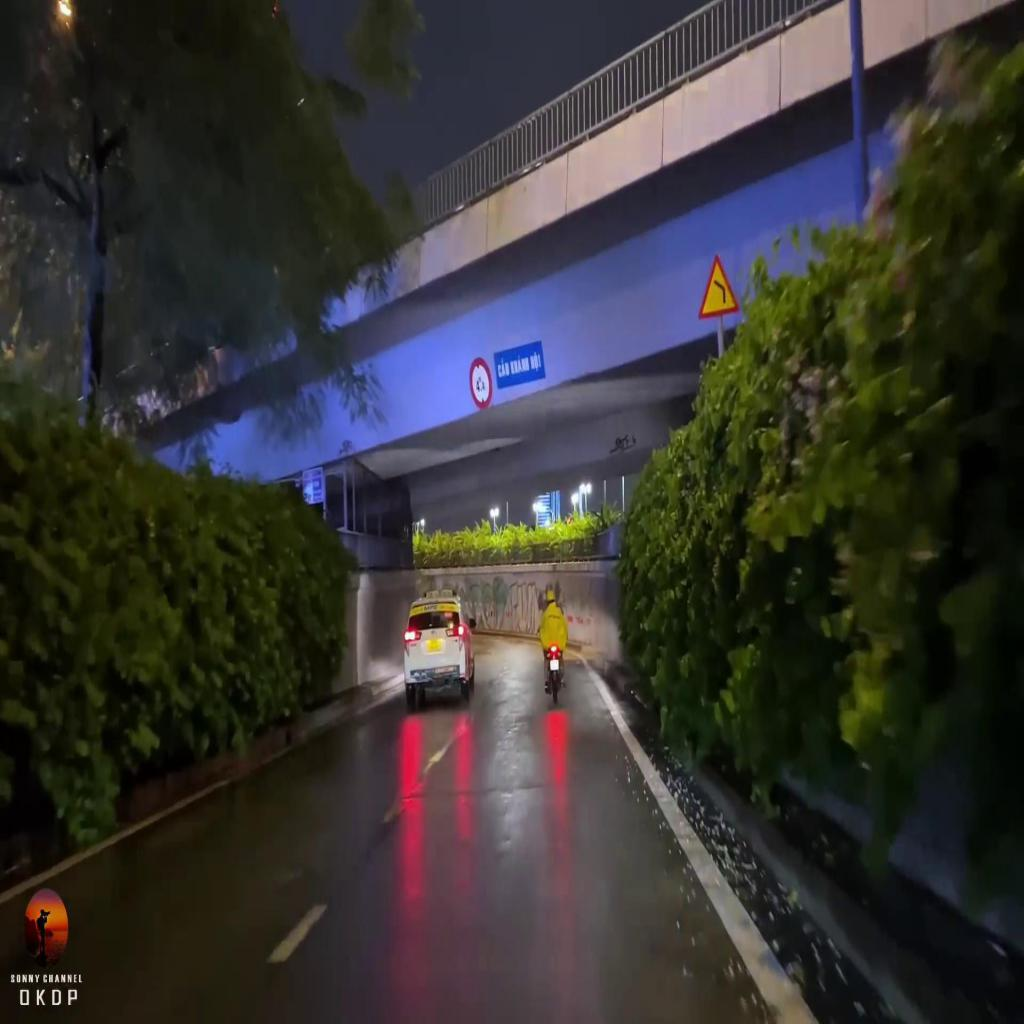cho_ngoat_nguy_hiem_ben_trai: (697, 253, 740, 320)
han_che_chieu_cao: (469, 358, 492, 410)
